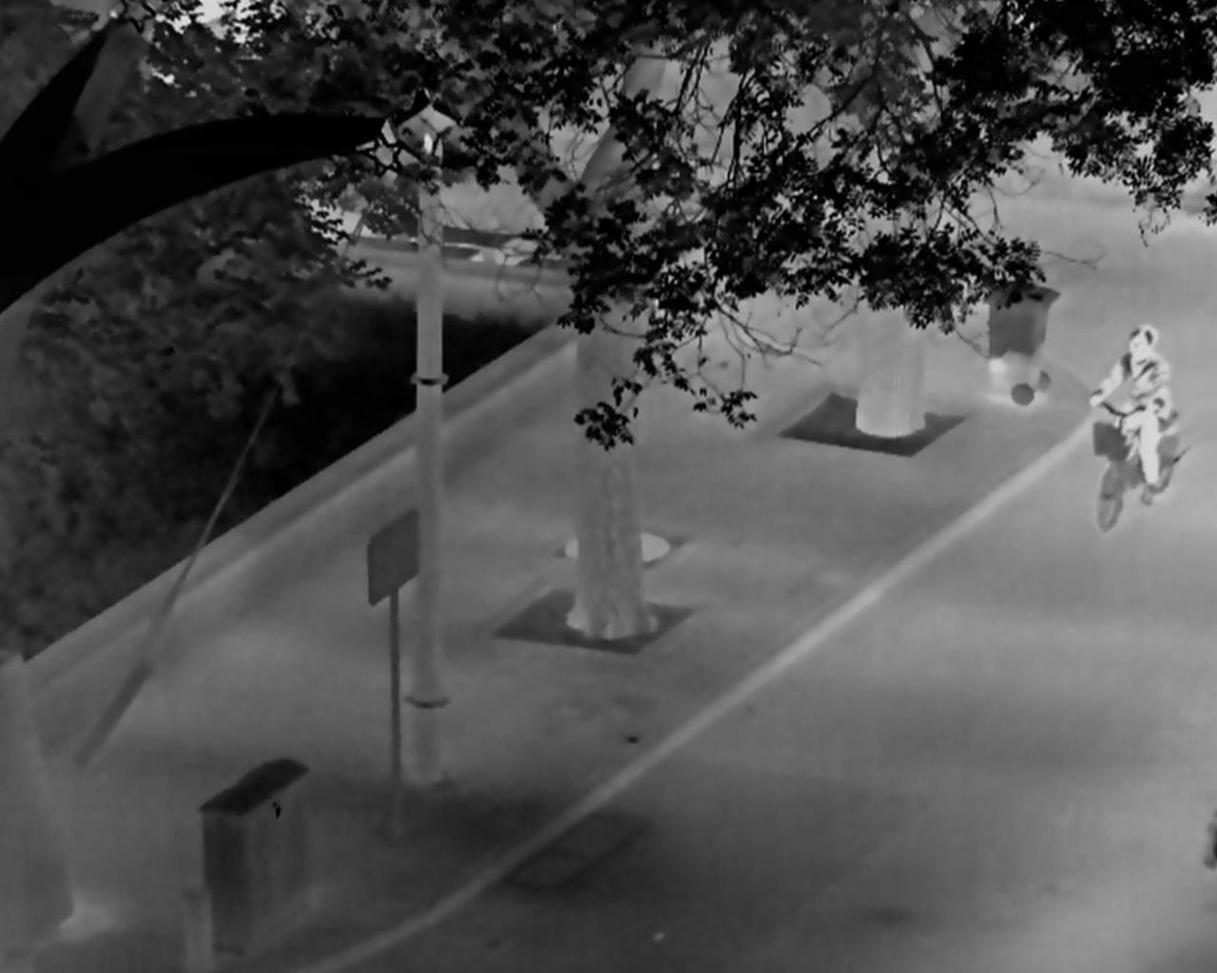person: (1085, 322, 1171, 506)
